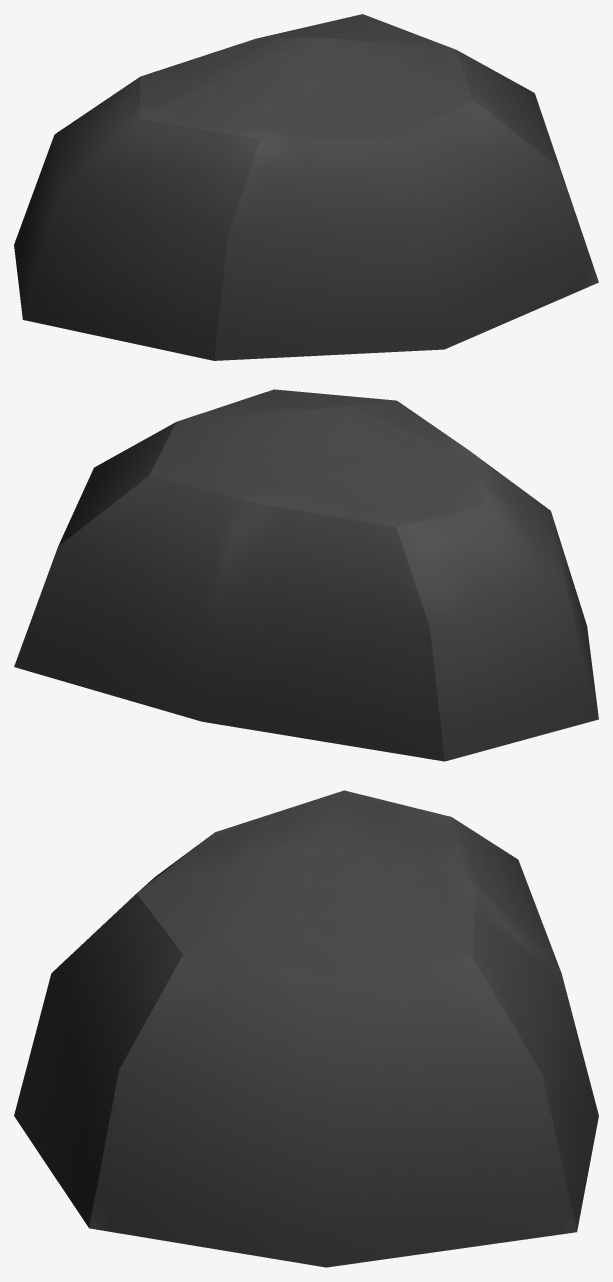
File: S_Rock.fbx
3 renders of one model, top to bottom at view 1: azimuth 30°, elevation 25°; view 2: azimuth 150°, elevation 25°; view 3: azimuth 270°, elevation 25°, orthographic. The views are drawn at different scales.
Visible parts, largest first — view 1: S_Rock; view 2: S_Rock; view 3: S_Rock.
Part boxes in pixels (box(x1,y1,x2,y2)): S_Rock: box(14, 14, 598, 360); S_Rock: box(14, 389, 598, 761); S_Rock: box(14, 790, 598, 1267).
Size of the model in its own units: 149 by 58.96 by 113.
